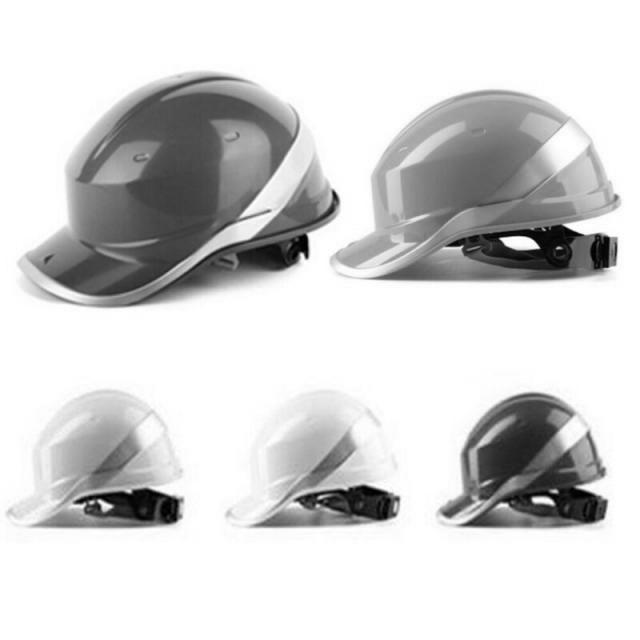construction helmet: (222, 387, 405, 534), (6, 389, 187, 533), (436, 391, 610, 531)
